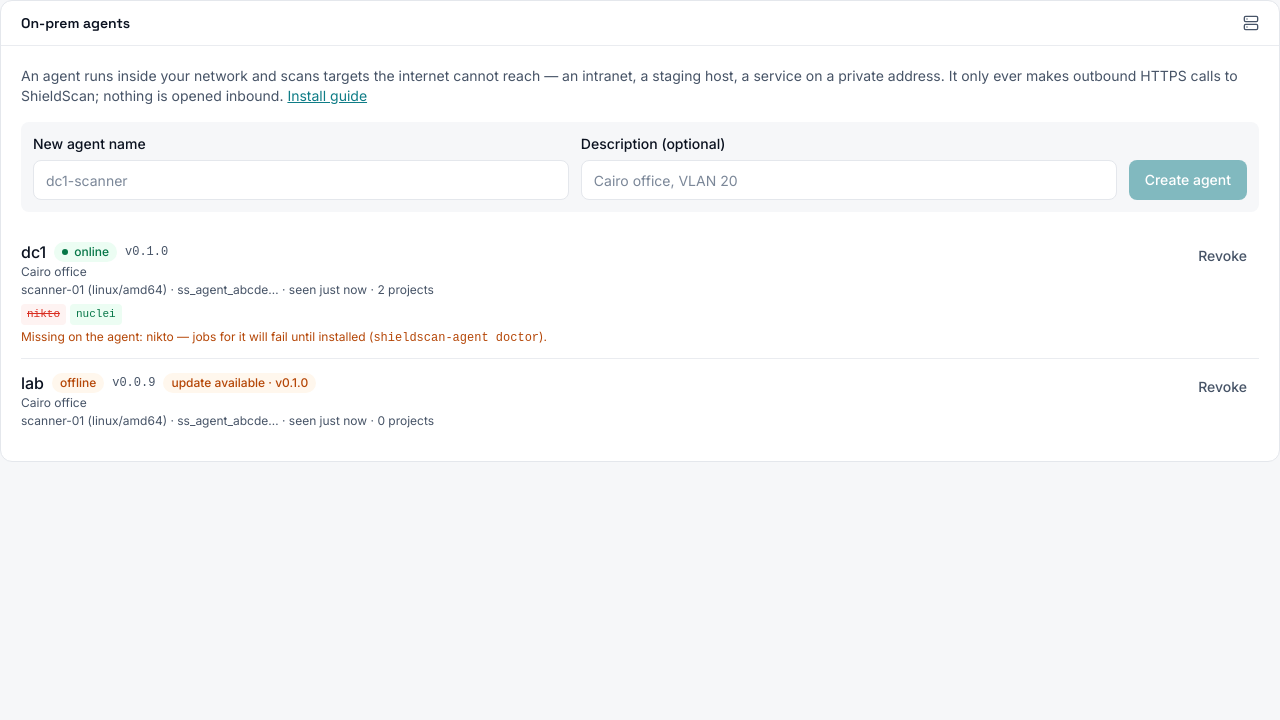
Test: <Agents /> › admin creates an agent and sees the one-time enrol command
Check: the text "dc1" is shown, box [21, 240, 46, 264]
Type "dc2" into the field labelled "New agent name" at (301, 180), box [33, 160, 569, 200]
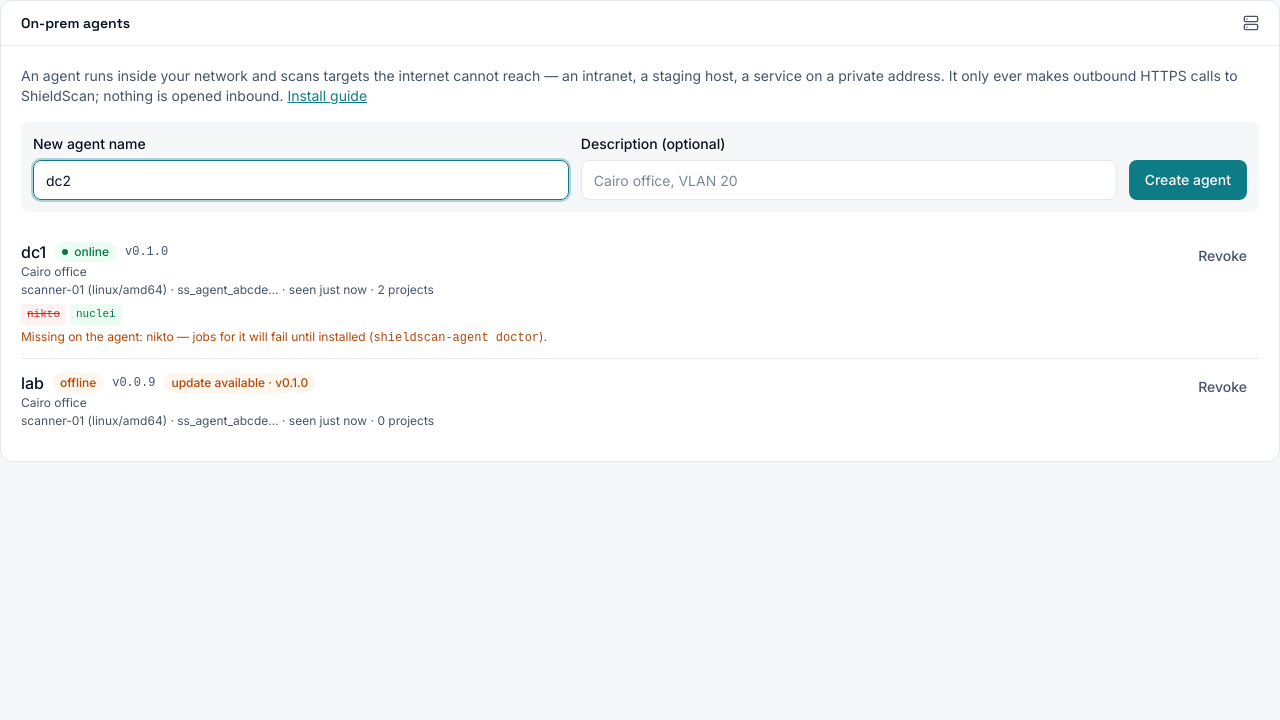
Click the button "Create agent" at (1188, 180), box [1129, 160, 1247, 200]
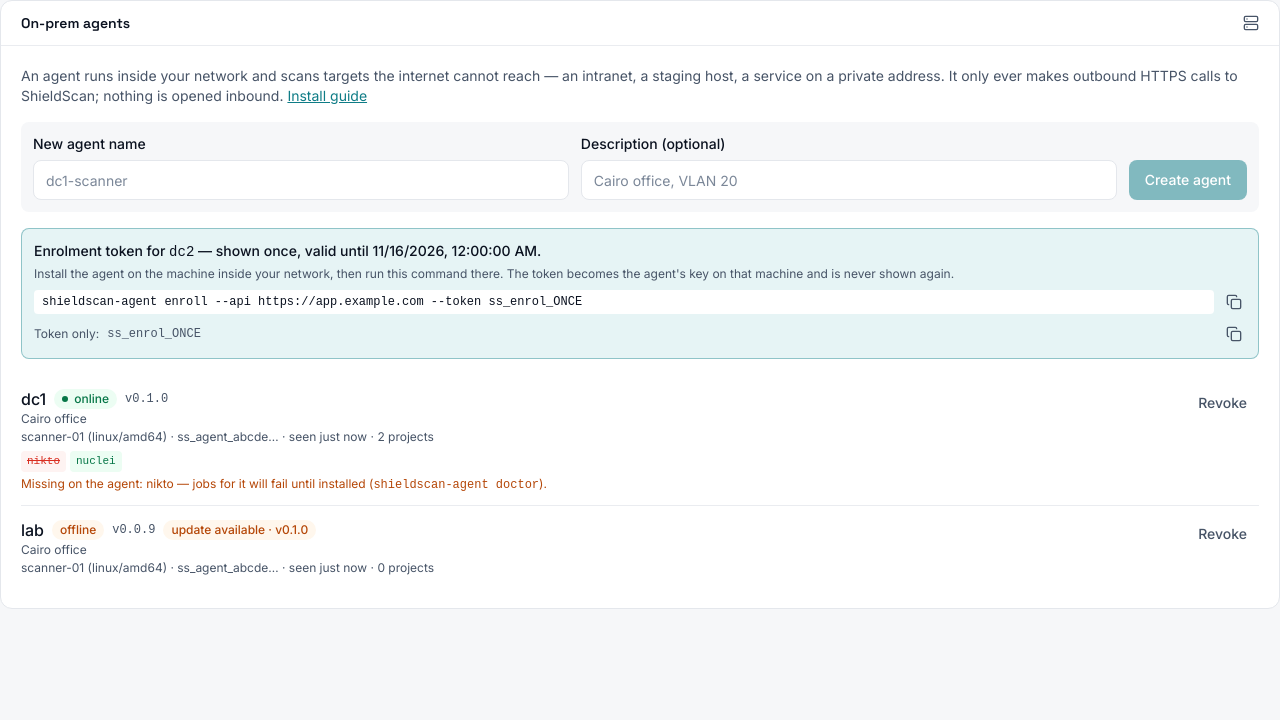
Check: the text "shown once" is shown, box [194, 242, 372, 259]
Check: the text "shieldscan-agent enroll --api https://app.example.com --token ss_enrol_ONCE" is shown, box [34, 290, 1214, 314]
